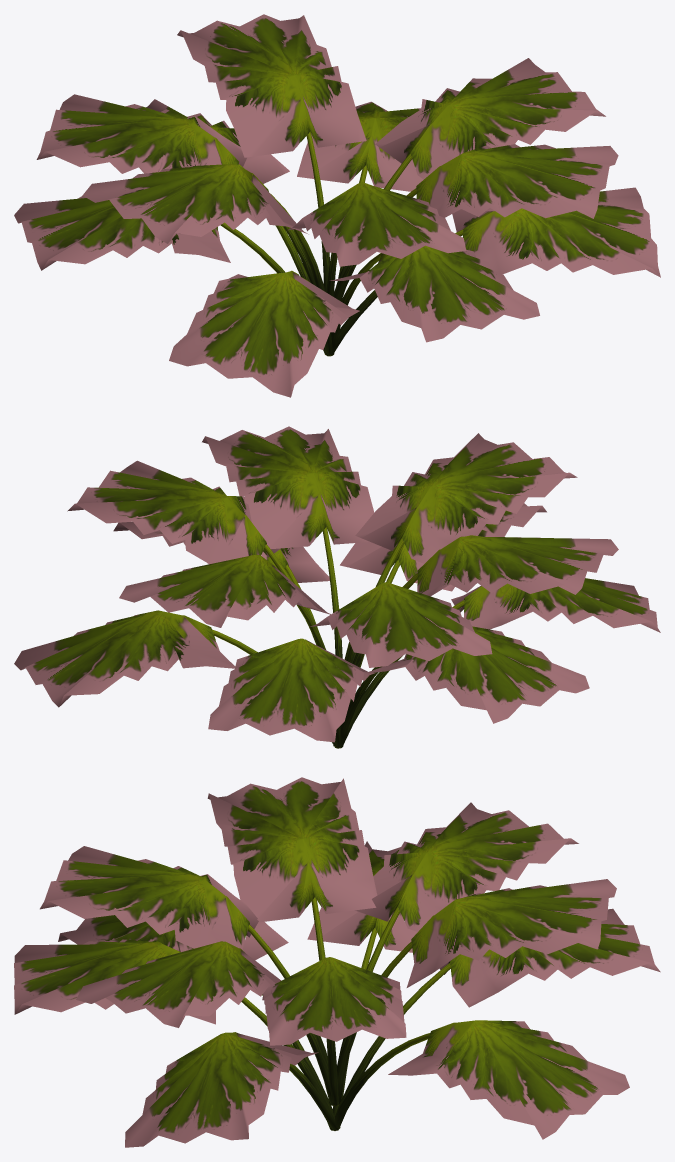
File: Alien Plant.obj
3 renders of one model, top to bottom at view 1: azimuth 30°, elevation 25°; view 2: azimuth 150°, elevation 25°; view 3: azimuth 270°, elevation 25°, orthographic. The views are drawn at different scales.
Parts seen in each view (by area): view 1: Alien Plant; view 2: Alien Plant; view 3: Alien Plant.
Part boxes in pixels (<box>): Alien Plant: <box>14,14,660,397</box>; Alien Plant: <box>14,426,660,748</box>; Alien Plant: <box>14,777,660,1147</box>.
Bounding box in the file's own units: 154 × 64.11 × 153.
2 materials, 2 textured.
